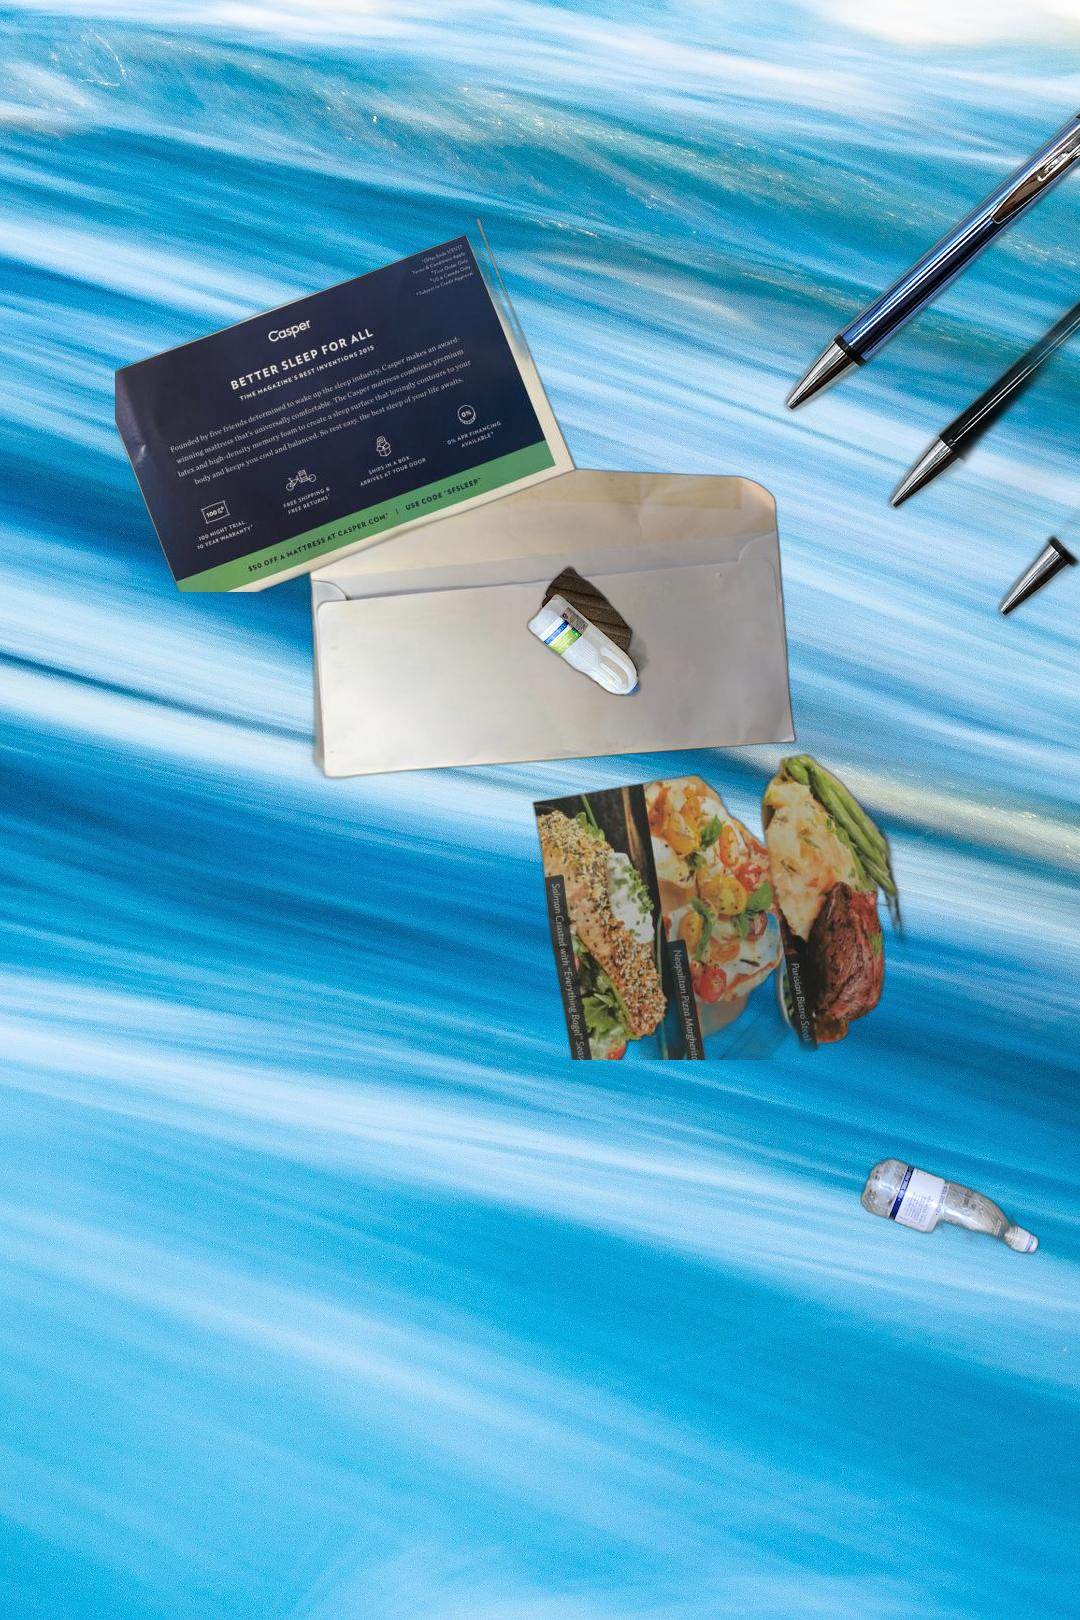paper: (115, 215, 581, 592), (301, 464, 800, 783), (529, 750, 926, 1060), (1046, 472, 1080, 770)
penholder: (779, 54, 1080, 779)
plastic-bottles: (524, 284, 945, 703), (636, 1152, 1080, 1485)
